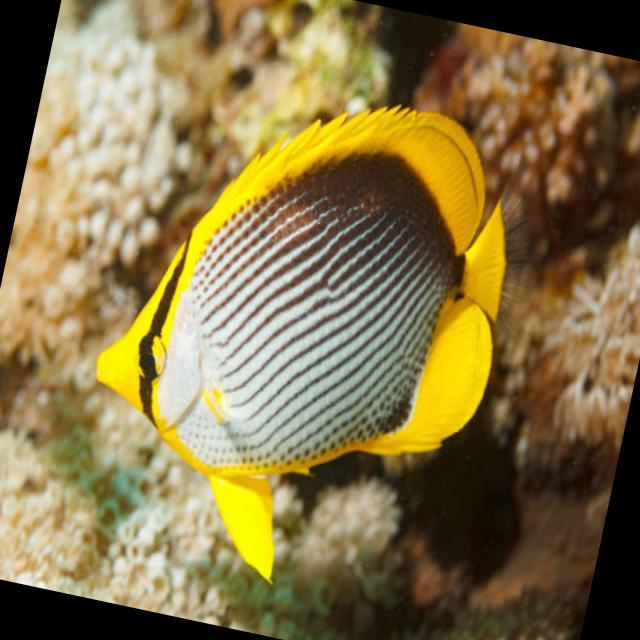ButterflyFish: (52, 46, 554, 636)
